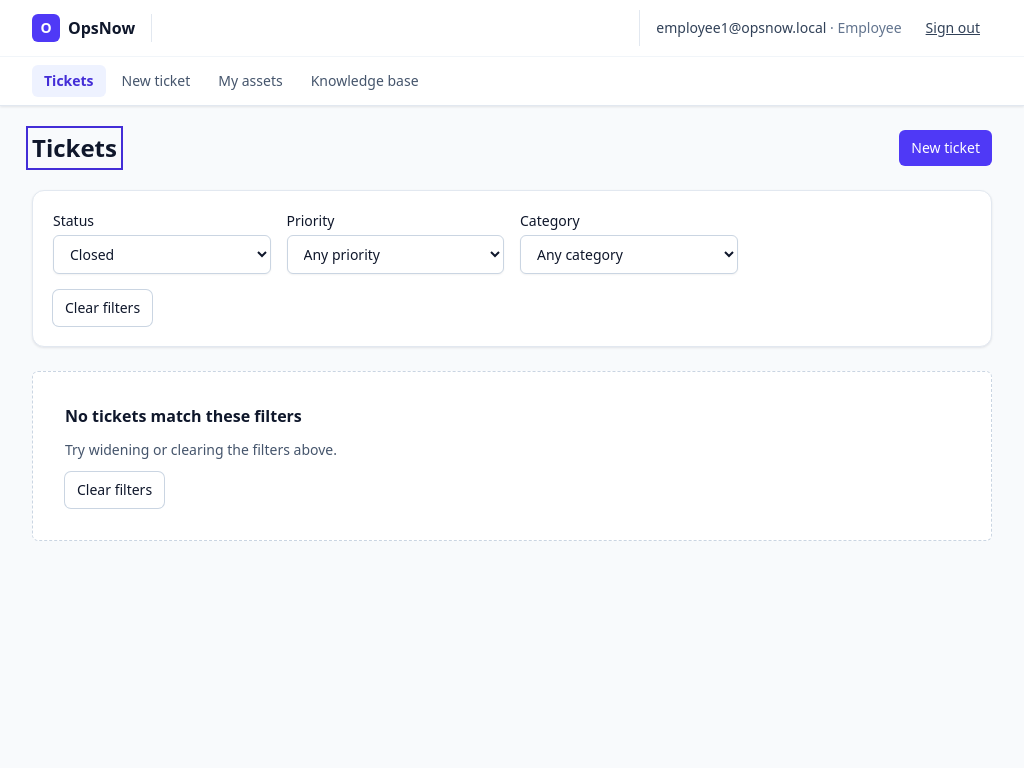
Test: ticket list — states › clearing the filters restores the unfiltered list
Check: the heading "Tickets" is shown, box [32, 132, 117, 164]
Check: the text "No tickets match these filters" is shown, box [65, 404, 302, 428]
Step 1. Click the button "Clear filters" below "Status" → x=103, y=308, box [53, 290, 152, 326]
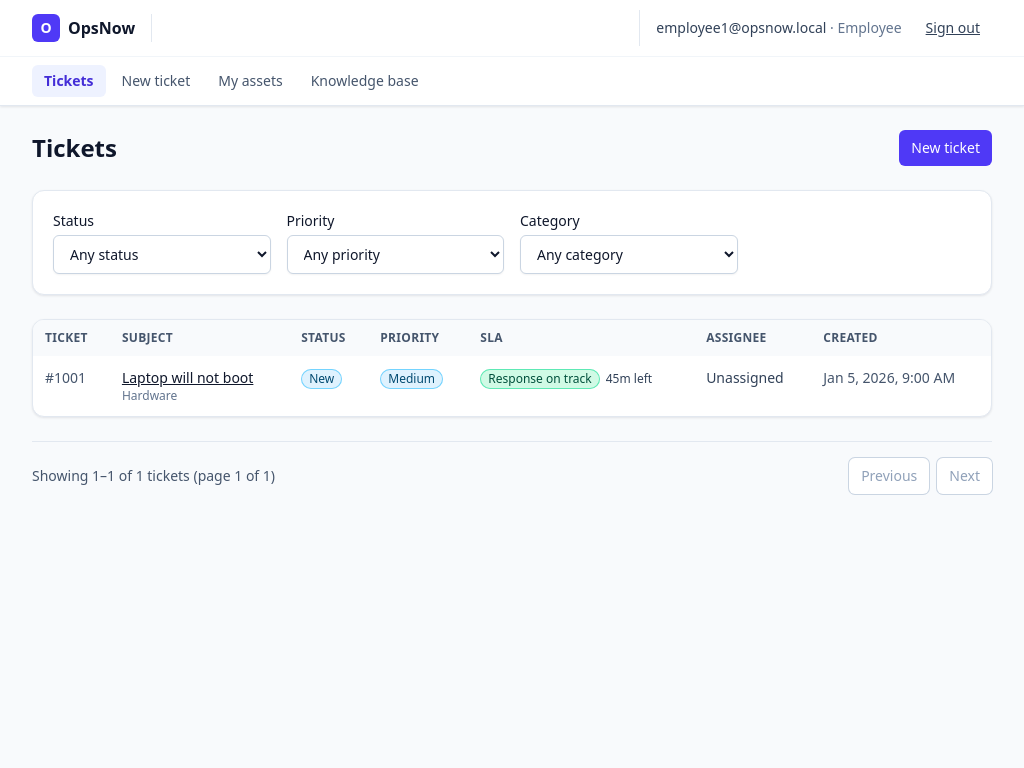
Check: the table is shown, box [33, 320, 991, 416]
